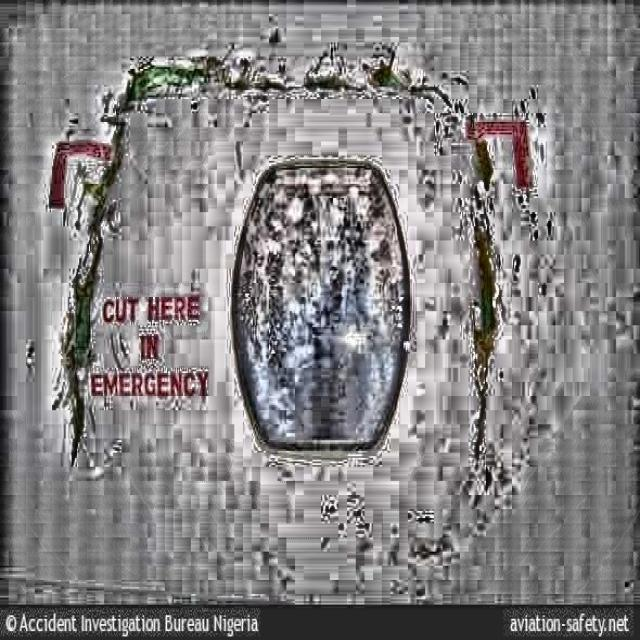crack: (52, 165, 121, 473), (469, 219, 502, 472), (125, 58, 207, 98), (376, 60, 409, 97)
